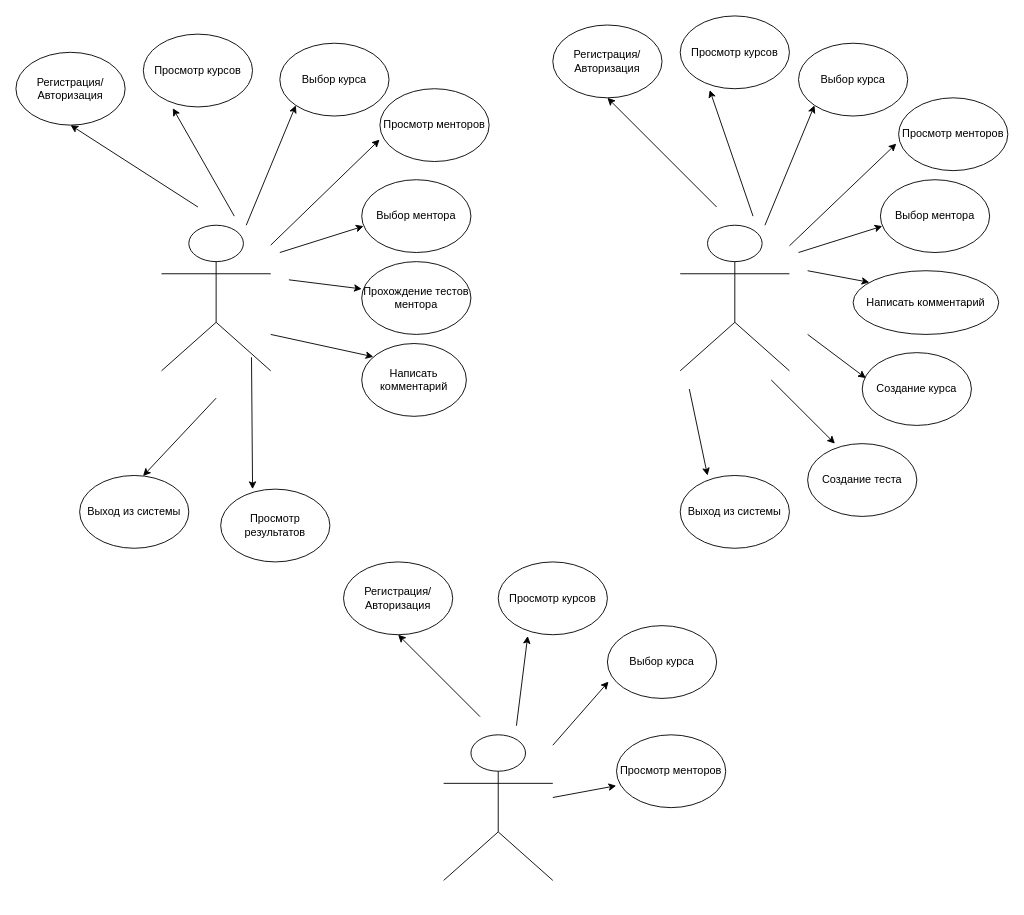
This 1024x915 diagram has some shape labels left out. The shapes that lost their labels are listed below. From the top down, each one's centre as x and y in pixels, then its label:
At point (216, 297): "Student".
At point (734, 297): "Mentor".
At point (498, 807): "Guest".
